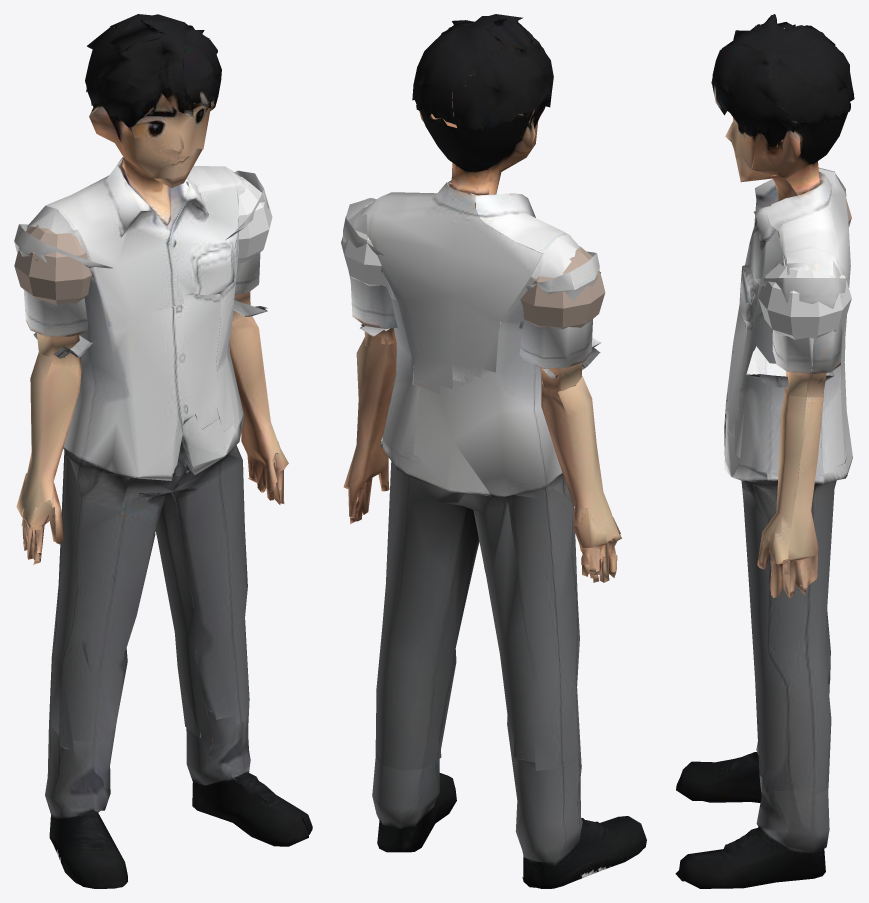
The model's file is hero_deden.glb.
3 views of the same model, side by side, from view 1: azimuth 30°, elevation 25°; view 2: azimuth 150°, elevation 25°; view 3: azimuth 270°, elevation 25° (orthographic). The views are drawn at different scales.
Parts seen in each view (by area): view 1: torso, leg_r, leg_l, head, arm_r, arm_l; view 2: torso, leg_r, leg_l, head, arm_r, arm_l; view 3: leg_l, torso, head, arm_l, leg_r, arm_r.
Part boxes in pixels (left/top/right/bottom): torso: left=14, top=148, right=272, bottom=476; leg_r: left=45, top=455, right=178, bottom=888; leg_l: left=155, top=416, right=312, bottom=846; head: left=85, top=14, right=221, bottom=178; arm_r: left=14, top=224, right=267, bottom=564; arm_l: left=33, top=170, right=288, bottom=504; torso: left=341, top=171, right=605, bottom=496; leg_r: left=448, top=479, right=646, bottom=888; leg_l: left=372, top=451, right=479, bottom=852; head: left=412, top=14, right=553, bottom=182; arm_r: left=360, top=251, right=621, bottom=582; arm_l: left=342, top=198, right=601, bottom=524; leg_l: left=675, top=455, right=852, bottom=888; torso: left=724, top=161, right=852, bottom=491; head: left=711, top=14, right=854, bottom=178; arm_l: left=755, top=278, right=846, bottom=597; leg_r: left=676, top=450, right=852, bottom=802; arm_r: left=746, top=167, right=846, bottom=387.
Bounding box in the file's own units: 0.5599 × 1.68 × 0.3344.
1 material, 1 textured.
